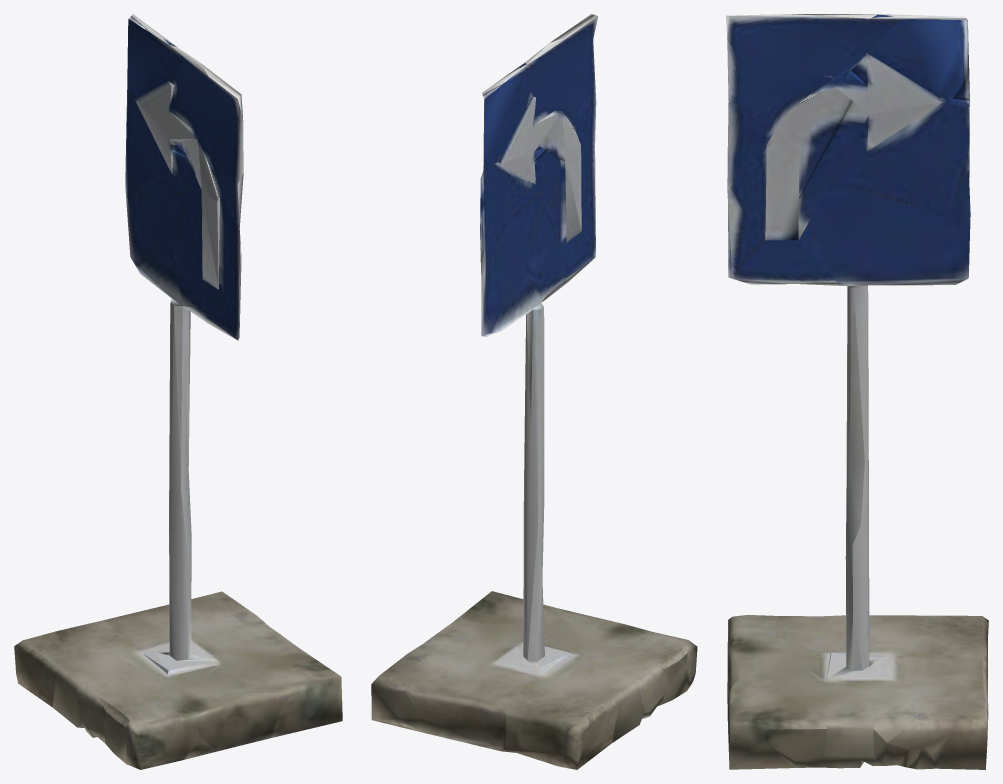
Rendered from rambu_kanan_lod2.glb.
The picture shows the model from 3 angles, left to right: view 1: azimuth 30°, elevation 25°; view 2: azimuth 150°, elevation 25°; view 3: azimuth 270°, elevation 25°; orthographic projection. The views are drawn at different scales.
Parts seen in each view (by area): view 1: tripo_node_2cee127a; view 2: tripo_node_2cee127a; view 3: tripo_node_2cee127a.
Boxes of the visible parts, x1,y1,x2,y2 form: tripo_node_2cee127a: [14, 14, 342, 769]; tripo_node_2cee127a: [371, 14, 697, 769]; tripo_node_2cee127a: [726, 14, 988, 769].
Bounding box in the file's own units: 33.99 × 99.8 × 33.89.
Materials: 1 (1 with a texture image).
